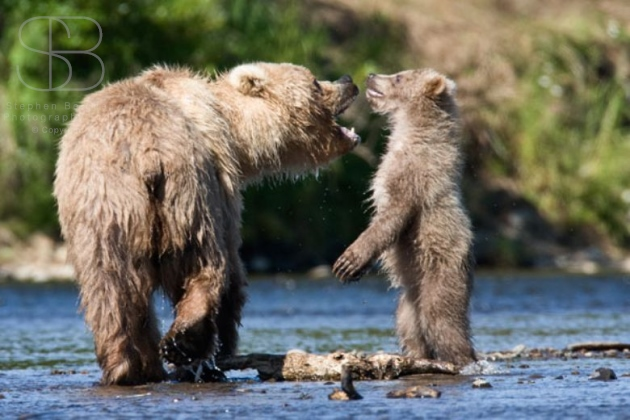bear: (52, 57, 359, 381), (341, 61, 490, 381)
